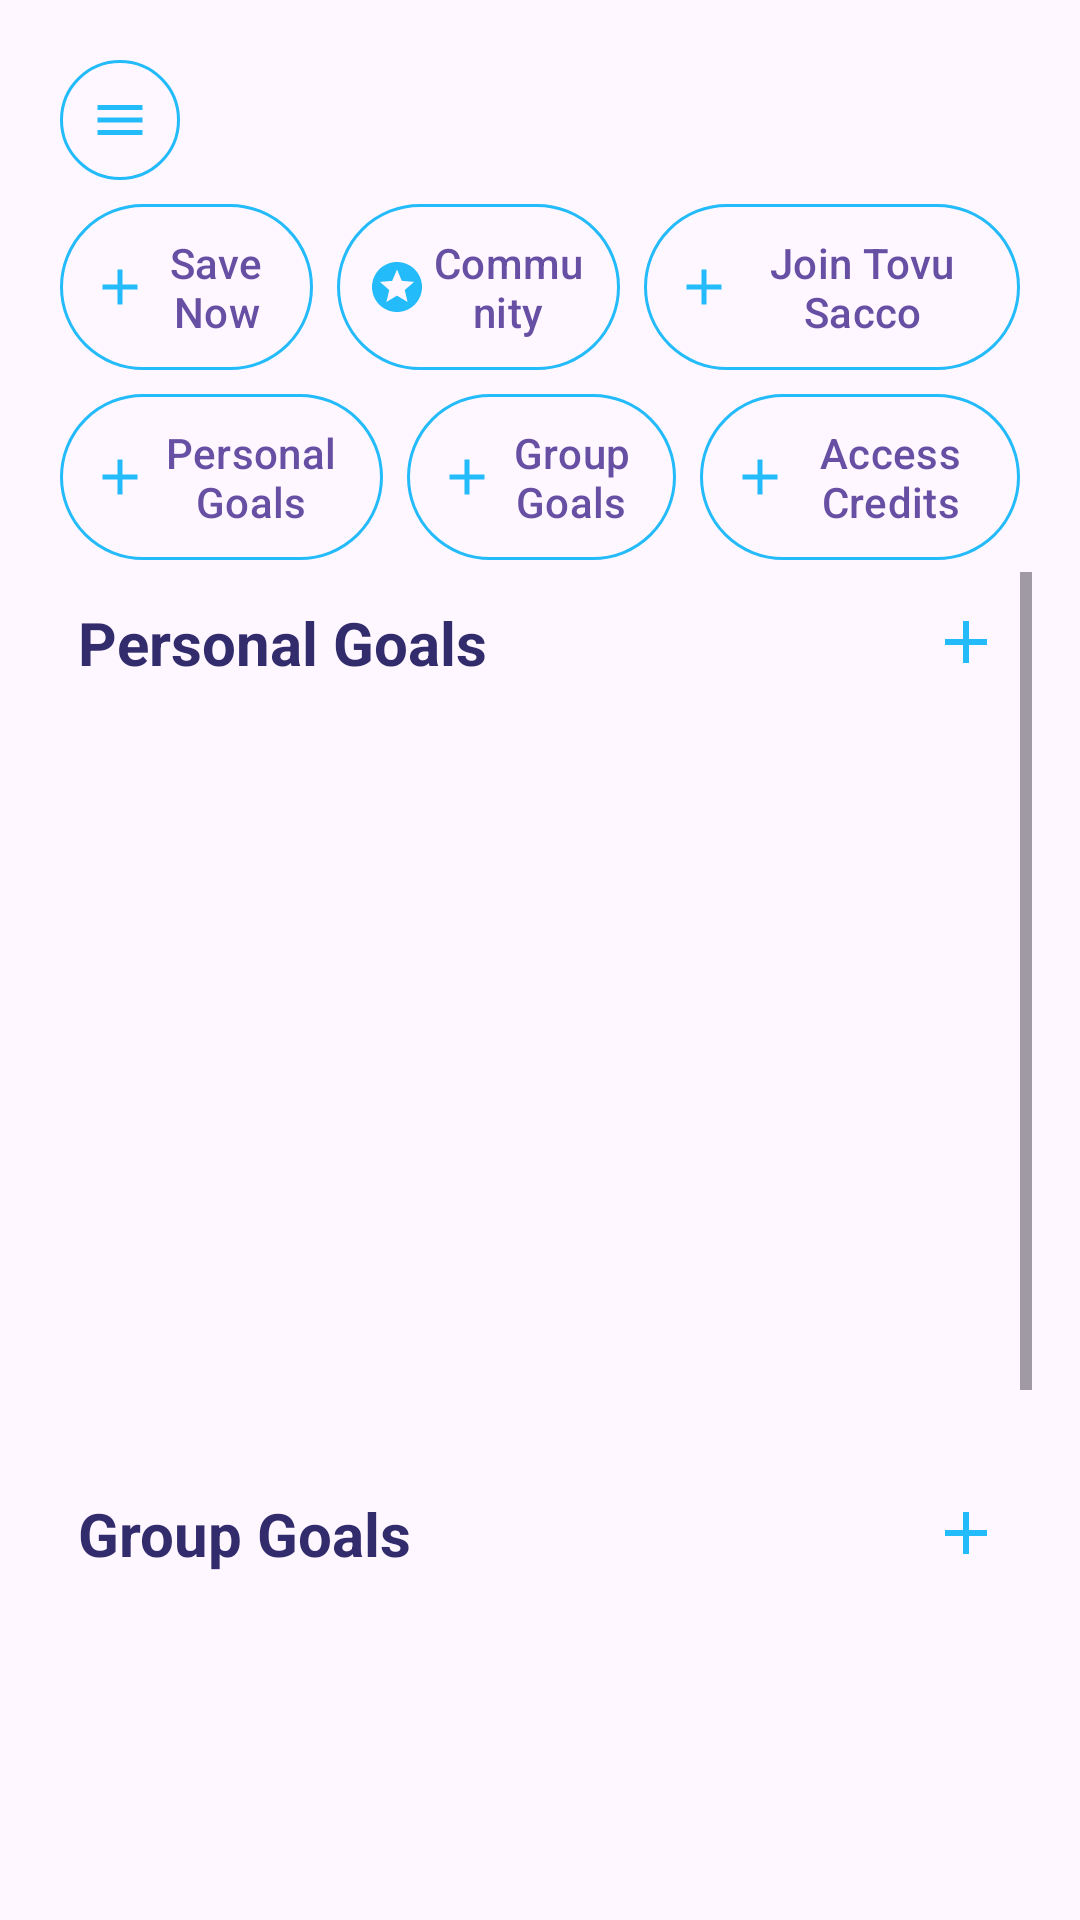

Named icons in this screenshot (1080×1920) and their bounding boxes, (x1, y1, x2, y2):
menu: (60, 60, 180, 180)
